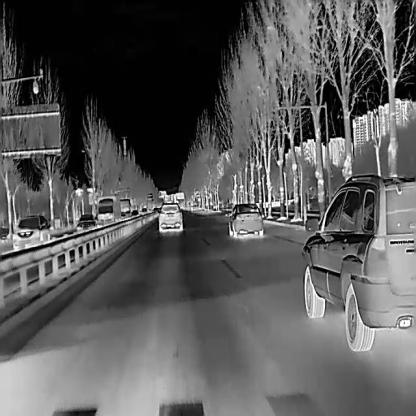car: (300, 170, 416, 351), (12, 212, 50, 252), (227, 201, 263, 237), (157, 200, 182, 231), (76, 211, 98, 238), (130, 208, 139, 219), (141, 206, 148, 216)
truck: (97, 194, 121, 228), (119, 196, 131, 221)
